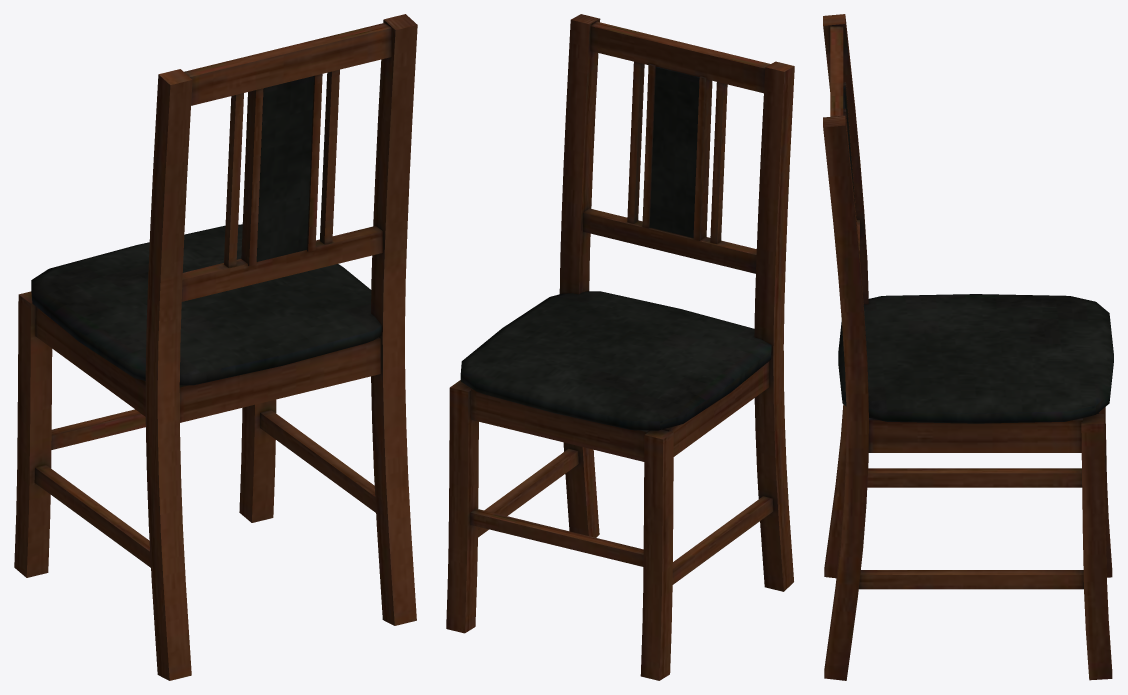
The model's file is chair_leather_lod1_web.glb.
3 views of the same model, side by side, from view 1: azimuth 30°, elevation 25°; view 2: azimuth 150°, elevation 25°; view 3: azimuth 270°, elevation 25° (orthographic). The views are drawn at different scales.
Parts seen in each view (by area): view 1: ChairLeather_Mesh; view 2: ChairLeather_Mesh; view 3: ChairLeather_Mesh.
Part boxes in pixels (x1=…): ChairLeather_Mesh: x1=14, y1=14, x2=417, y2=680; ChairLeather_Mesh: x1=446, y1=14, x2=794, y2=680; ChairLeather_Mesh: x1=823, y1=14, x2=1113, y2=680.
Size of the model in its own units: 0.43 by 0.9337 by 0.4429.
Materials: 1 (1 with a texture image).
